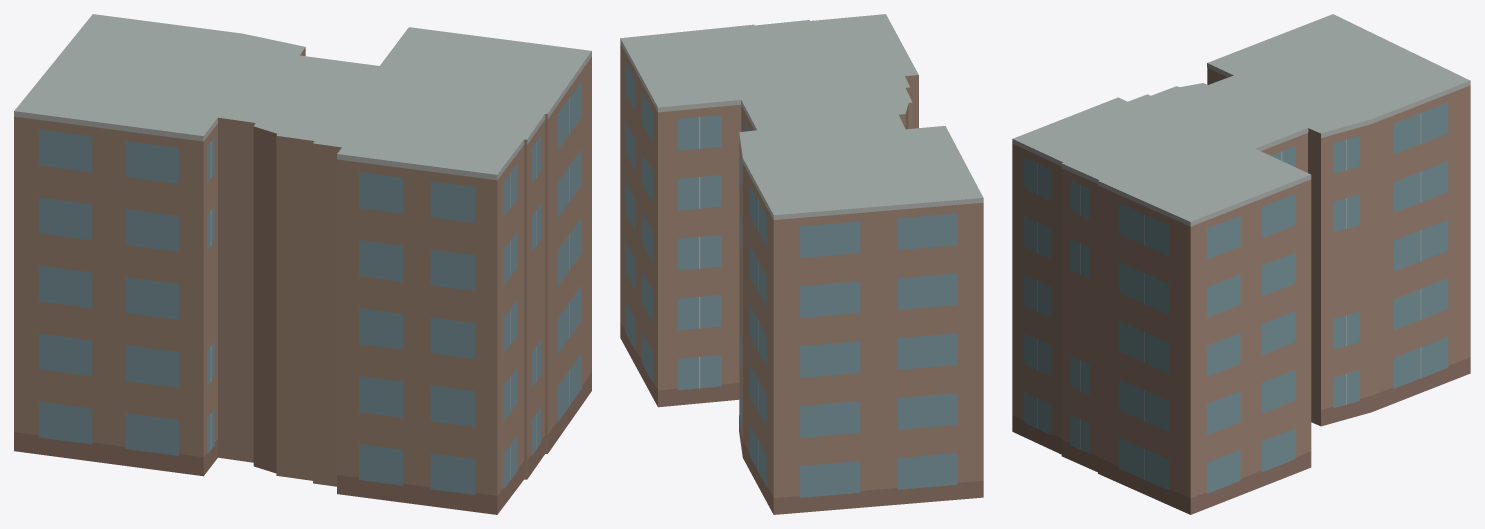
Rendered from survey-upis-32595122.glb.
The picture shows the model from 3 angles, left to right: view 1: azimuth 30°, elevation 25°; view 2: azimuth 150°, elevation 25°; view 3: azimuth 270°, elevation 25°; orthographic projection. The views are drawn at different scales.
Visible parts, largest first — view 1: survey-upis-32595122.tmp; view 2: survey-upis-32595122.tmp; view 3: survey-upis-32595122.tmp.
Boxes of the visible parts, box(x1,y1,x2,y2) form: survey-upis-32595122.tmp: box(14, 14, 591, 514); survey-upis-32595122.tmp: box(620, 14, 983, 514); survey-upis-32595122.tmp: box(1012, 14, 1470, 514).
Bounding box in the file's own units: 23.24 × 15.25 × 21.63.
